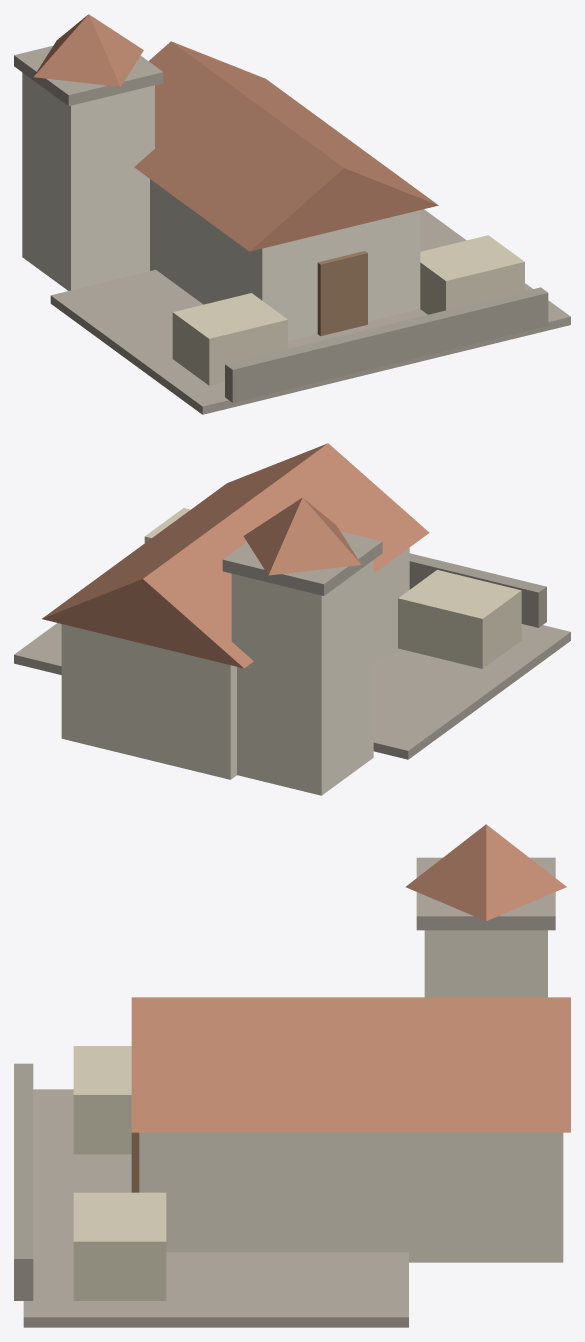
Rendered from independence_chapel_lod1.glb.
3 renders of one model, top to bottom at view 1: azimuth 30°, elevation 25°; view 2: azimuth 150°, elevation 25°; view 3: azimuth 270°, elevation 25°, orthographic. The views are drawn at different scales.
Parts seen in each view (by area): view 1: independence_chapel; view 2: independence_chapel; view 3: independence_chapel.
Boxes of the visible parts, bbox=[...] form: independence_chapel: bbox=[14, 14, 570, 414]; independence_chapel: bbox=[14, 443, 570, 795]; independence_chapel: bbox=[14, 824, 570, 1327].
Size of the model in its own units: 14 by 9.1 by 14.45.
